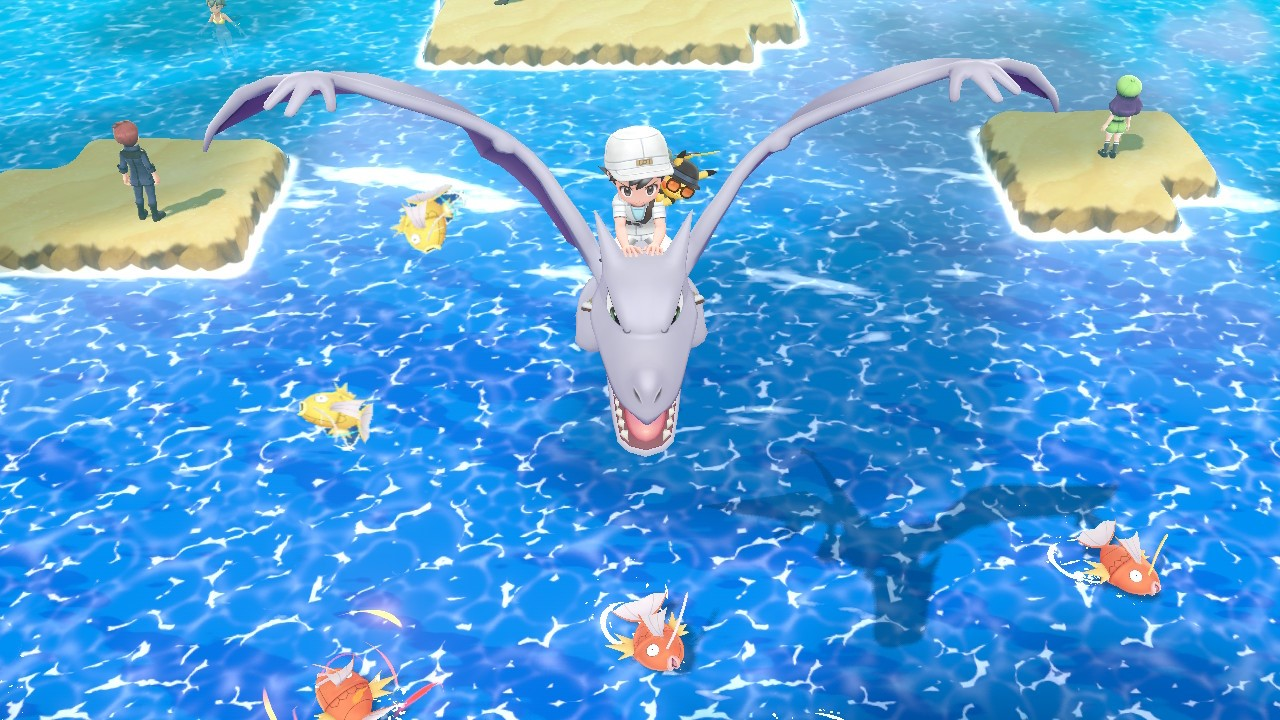Golden: (296, 382, 376, 452), (388, 190, 459, 257)
Red: (1071, 522, 1161, 600), (606, 592, 687, 675), (306, 659, 396, 720)
